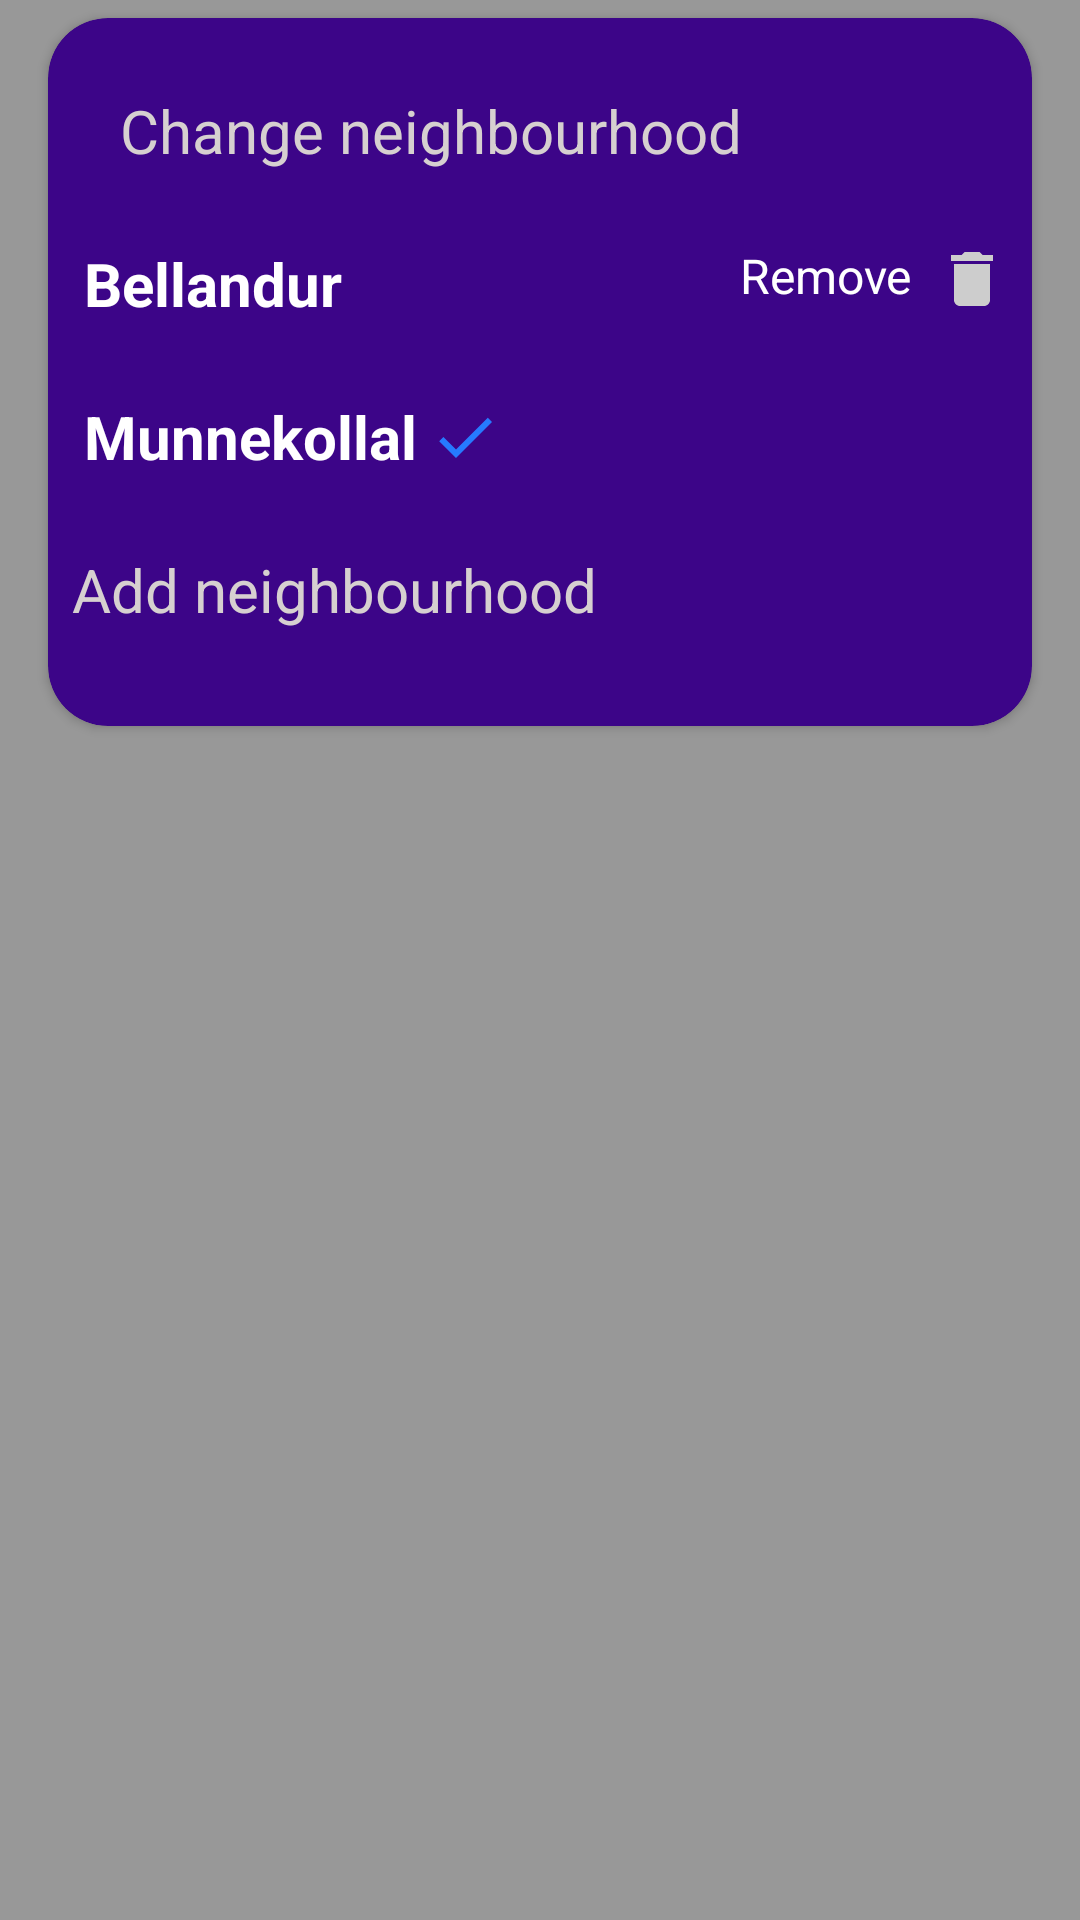

Icons on this 1080x1920 Android screen, each with its box as (x1, y1, x2, y2):
delete: (951, 252, 993, 306)
done right: (439, 418, 492, 458)
